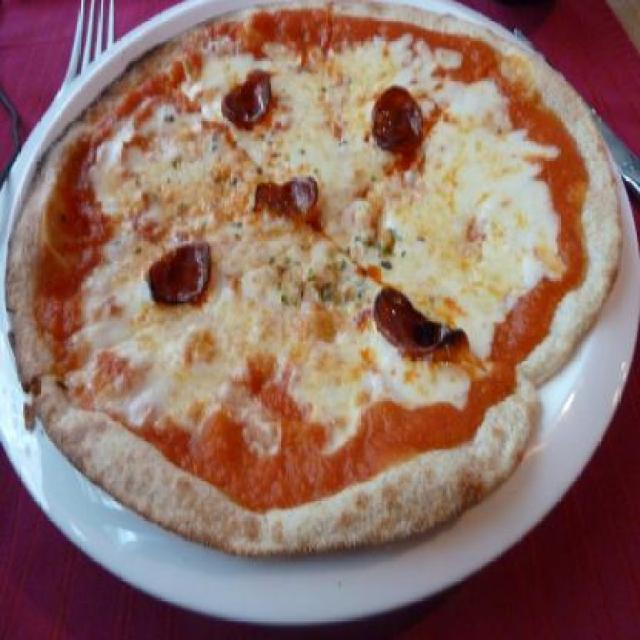Pizza: (5, 0, 621, 551)
